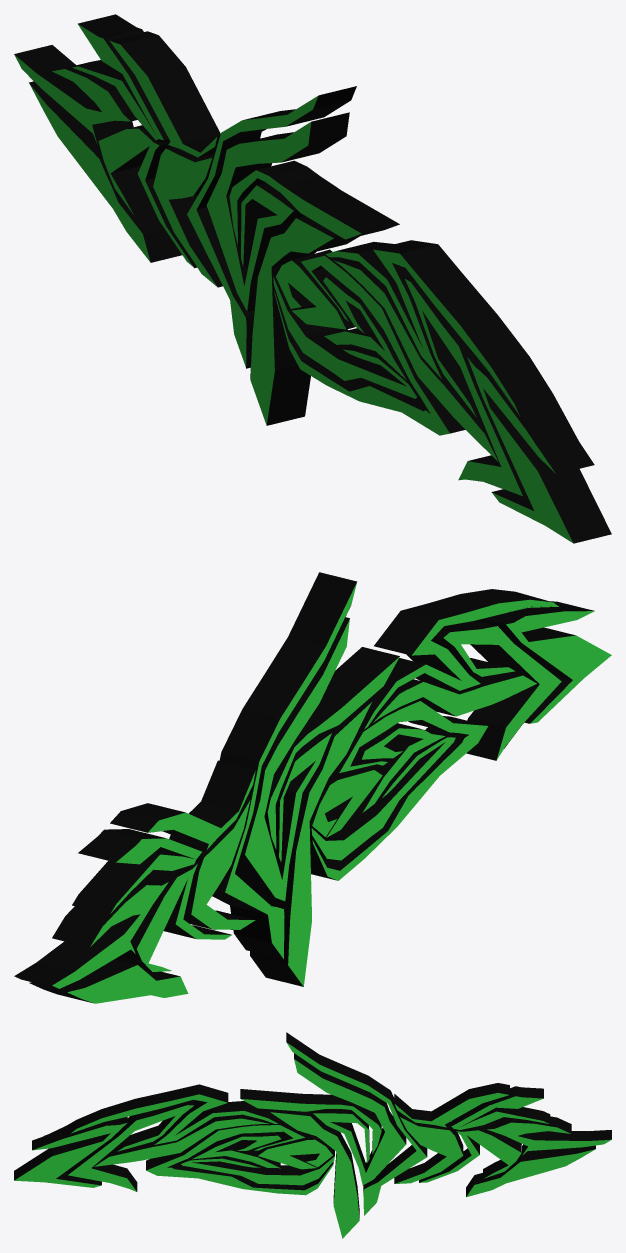
Rendered from scena.gltf.
3 renders of one model, top to bottom at view 1: azimuth 30°, elevation 25°; view 2: azimuth 150°, elevation 25°; view 3: azimuth 270°, elevation 25°, orthographic. The views are drawn at different scales.
Visible parts, largest first — view 1: Cube.001; view 2: Cube.001; view 3: Cube.001.
Part boxes in pixels (bbox=[...]): Cube.001: bbox=[14, 14, 611, 543]; Cube.001: bbox=[14, 572, 611, 1003]; Cube.001: bbox=[14, 1032, 611, 1238].
Bounding box in the file's own units: 2.16 × 18.44 × 50.8.
